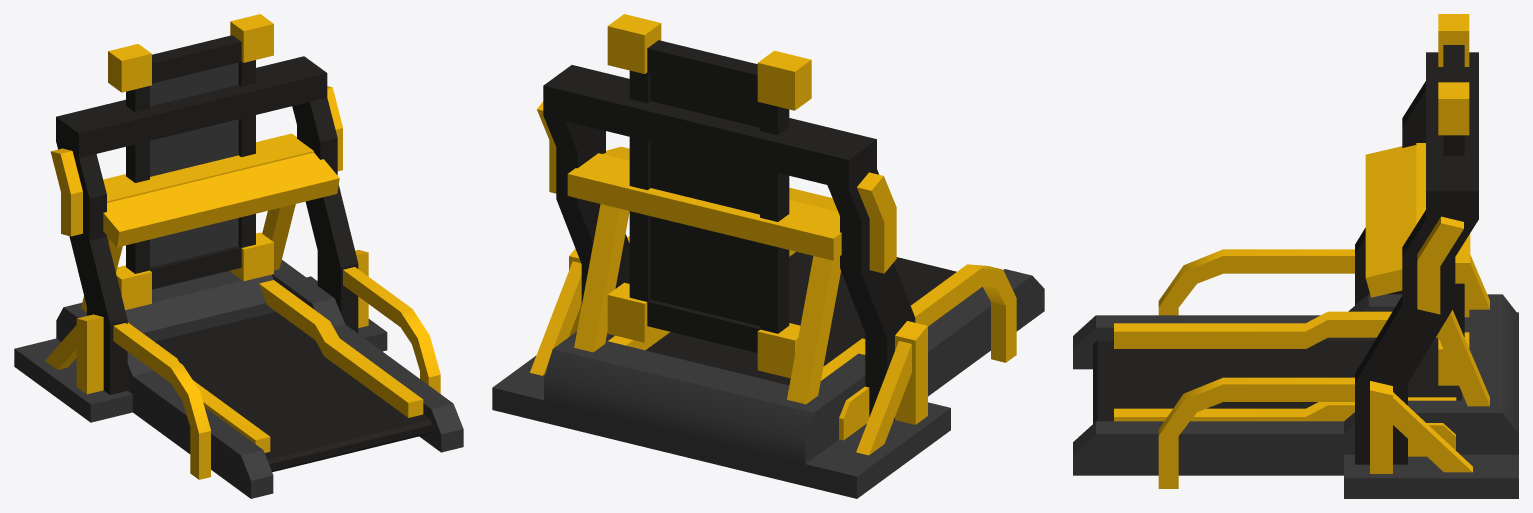
Rendered from 5.Golden_Treadmill.fbx.
3 views of the same model, side by side, from view 1: azimuth 30°, elevation 25°; view 2: azimuth 150°, elevation 25°; view 3: azimuth 270°, elevation 25° (orthographic). The views are drawn at different scales.
Parts seen in each view (by area): view 1: Golden_Treadmill; view 2: Golden_Treadmill; view 3: Golden_Treadmill.
Part boxes in pixels (<box>): Golden_Treadmill: <box>14,14,463,498</box>; Golden_Treadmill: <box>492,14,1044,498</box>; Golden_Treadmill: <box>1073,14,1518,498</box>.
Bounding box in the file's own units: 12.66 × 13 × 14.39.
